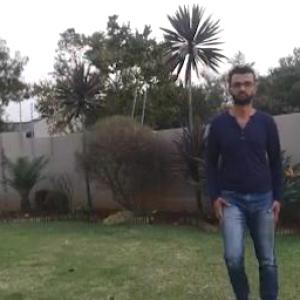follow: (198, 44, 294, 299)
